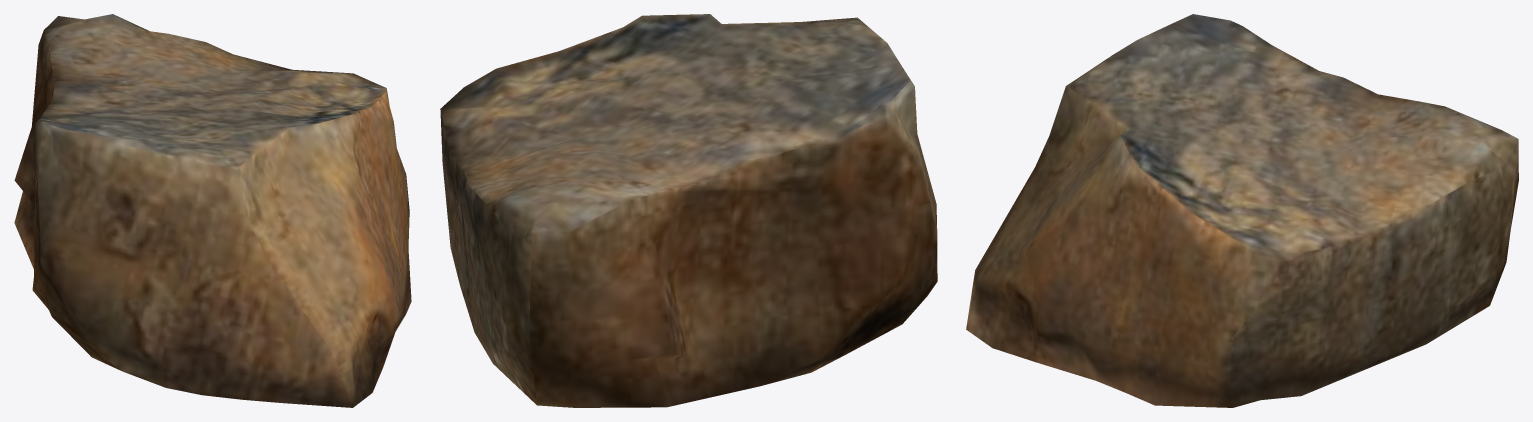
The picture shows the model from 3 angles, left to right: view 1: azimuth 30°, elevation 25°; view 2: azimuth 150°, elevation 25°; view 3: azimuth 270°, elevation 25°; orthographic projection. The views are drawn at different scales.
Visible parts, largest first — view 1: namaqualand_boulder_03_lod2; view 2: namaqualand_boulder_03_lod2; view 3: namaqualand_boulder_03_lod2.
Part boxes in pixels (<box>): namaqualand_boulder_03_lod2: <box>14,14,411,407</box>; namaqualand_boulder_03_lod2: <box>440,14,937,407</box>; namaqualand_boulder_03_lod2: <box>966,14,1518,407</box>.
Size of the model in its own units: 2.39 by 1.45 by 3.
1 material, 1 textured.
